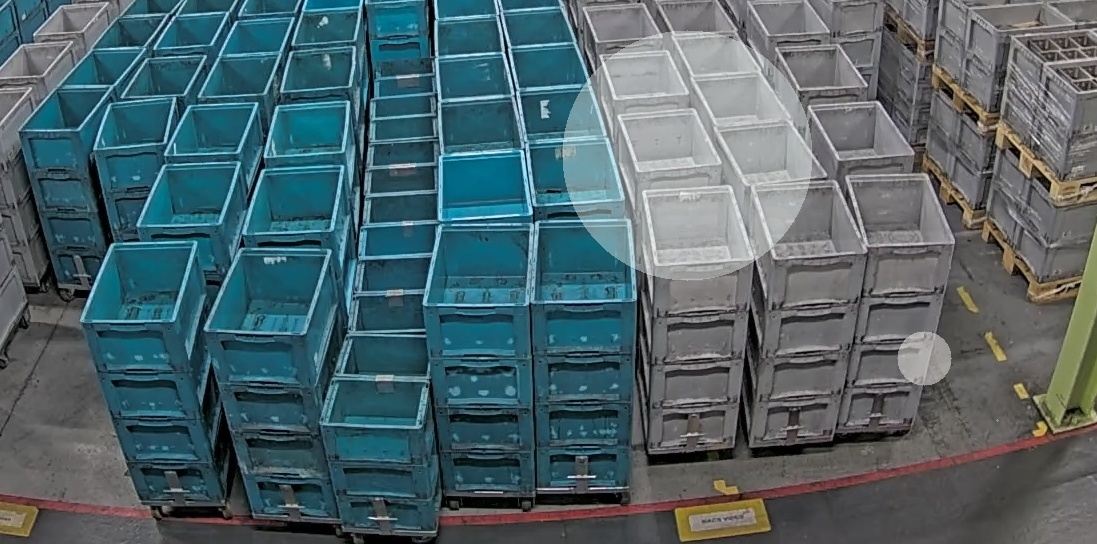4G: (741, 179, 869, 444), (637, 184, 756, 451), (836, 172, 957, 433)
B4: (76, 239, 234, 502), (202, 246, 344, 519), (420, 221, 535, 494), (530, 217, 639, 491), (91, 96, 181, 244)
B8: (318, 332, 442, 533)
